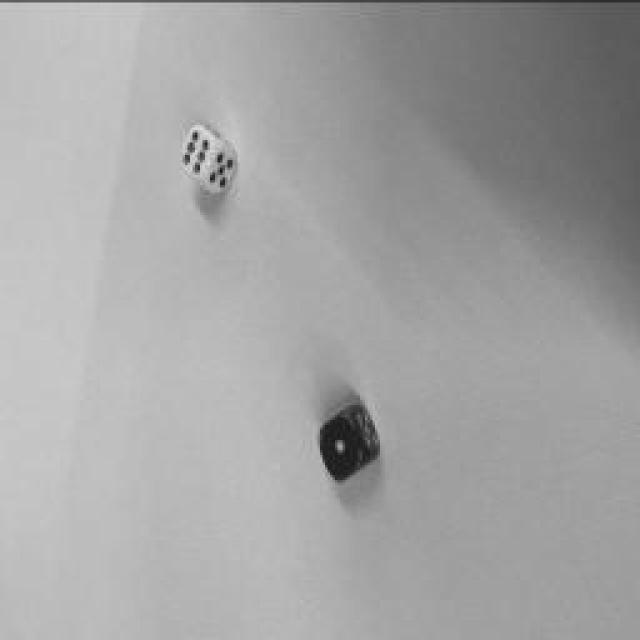dice_1: (318, 414, 368, 481)
dice_6: (181, 122, 214, 178)
